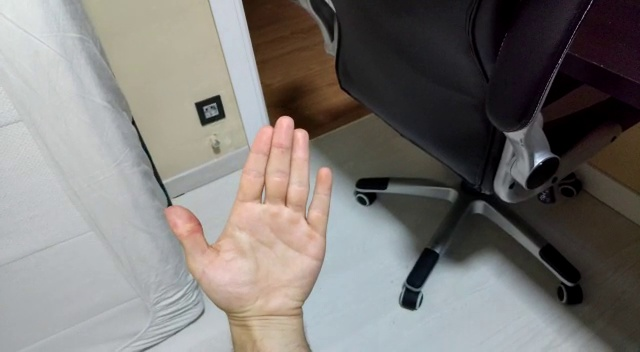Palm: (163, 115, 334, 329)
